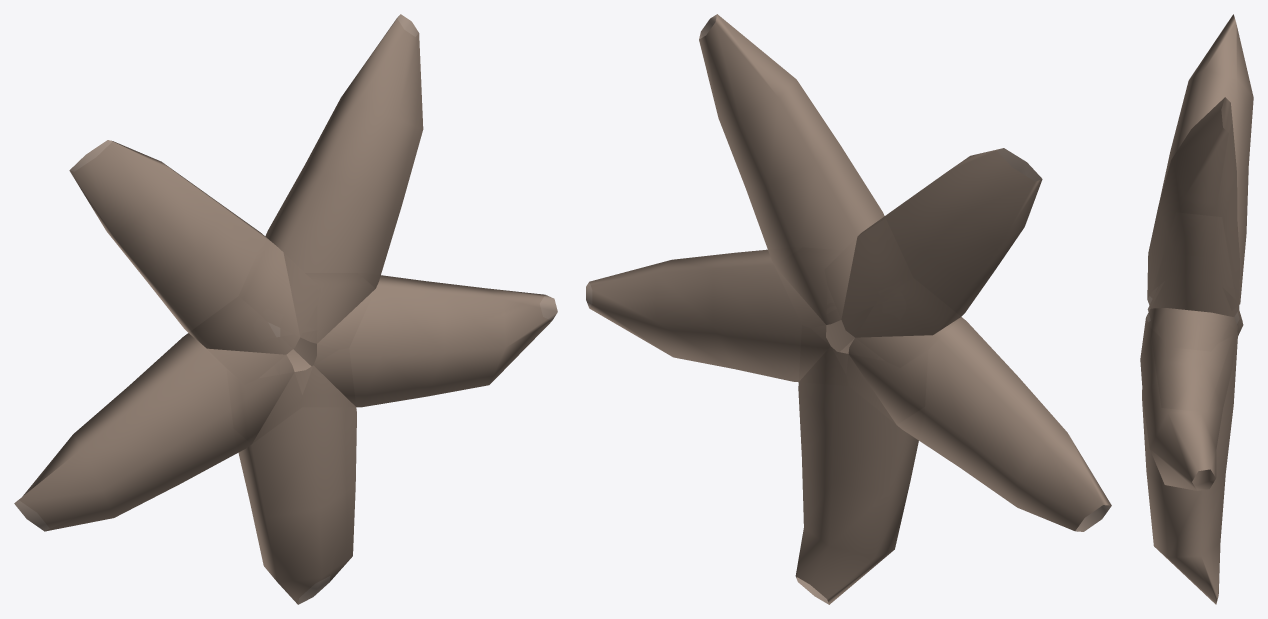
The model's file is SeaStar02.fbx.
The picture shows the model from 3 angles, left to right: view 1: azimuth 30°, elevation 25°; view 2: azimuth 150°, elevation 25°; view 3: azimuth 270°, elevation 25°; orthographic projection.
Parts seen in each view (by area): view 1: starfishFat3Flower2; view 2: starfishFat3Flower2; view 3: starfishFat3Flower2.
Boxes of the visible parts, x1,y1,x2,y2 form: starfishFat3Flower2: [14, 14, 557, 604]; starfishFat3Flower2: [586, 14, 1111, 604]; starfishFat3Flower2: [1140, 14, 1253, 604].
Bounding box in the file's own units: 0.1929 × 0.1958 × 0.0361.
